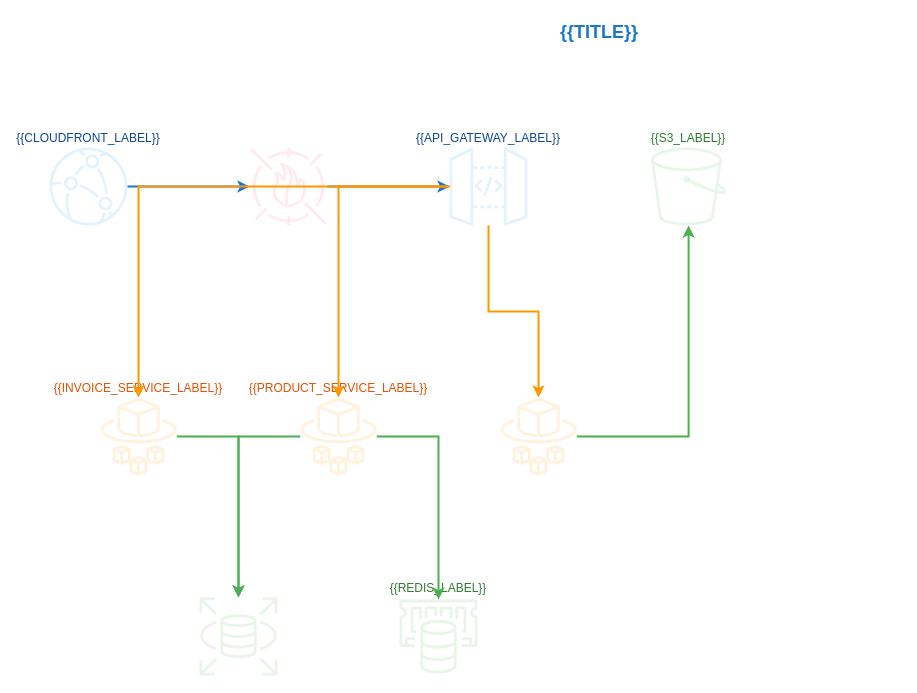
The diagram is 917 pixels wide and 693 high, and some of its shapes have lost their labels. The centre of each missing label's shape, as x and y in pixels:
"{{OCR_SERVICE_LABEL}}" belongs at point 538,436.
"{{RDS_LABEL}}" belongs at point 238,636.
"{{WAF_LABEL}}" belongs at point 288,186.
